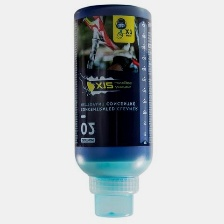cleaning_solution: (70, 2, 156, 220)
